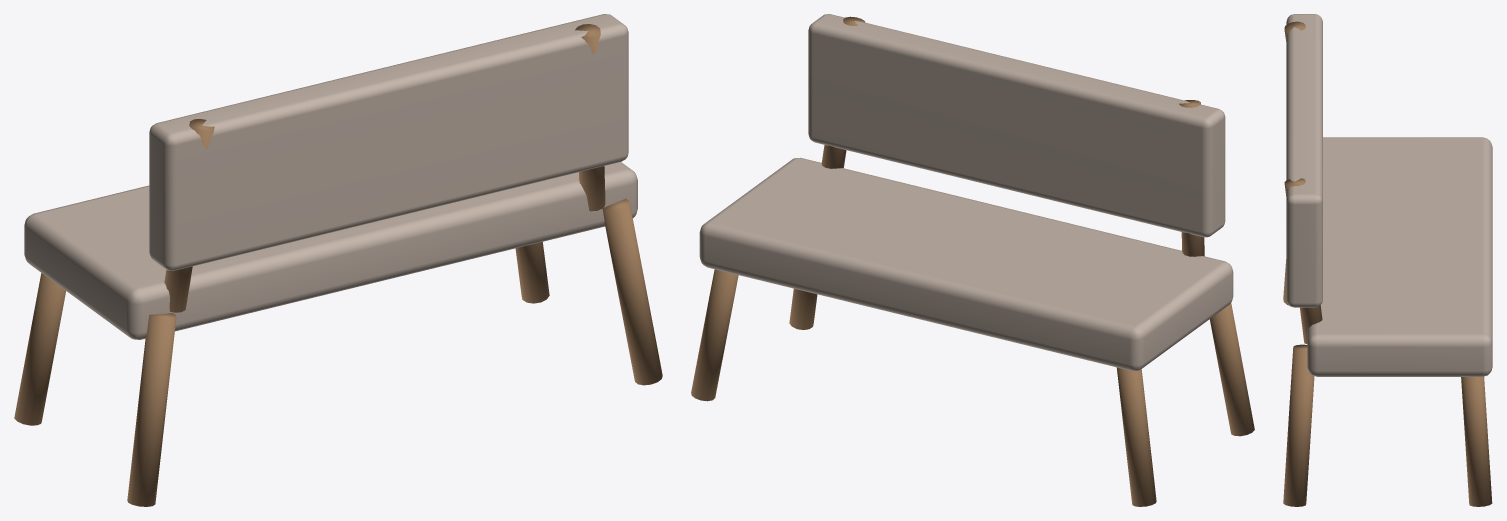
The model's file is secret-aria-traco.glb.
3 renders of one model, left to right at view 1: azimuth 30°, elevation 25°; view 2: azimuth 150°, elevation 25°; view 3: azimuth 270°, elevation 25°, orthographic. The views are drawn at different scales.
Visible parts, largest first — view 1: Encosto, Assento moldado, Pé de madeira, Pé de madeira.002, Pé de madeira.001, Pé de madeira.003, Montante do encosto, Montante do encosto.001; view 2: Assento moldado, Encosto, Pé de madeira.001, Pé de madeira.003, Pé de madeira, Pé de madeira.002, Montante do encosto.001, Montante do encosto; view 3: Assento moldado, Encosto, Pé de madeira.002, Pé de madeira.003, Montante do encosto.001.
Part boxes in pixels (x1,y1,x2,y2): Encosto: (149, 14, 628, 270); Assento moldado: (24, 162, 637, 339); Pé de madeira: (127, 313, 176, 506); Pé de madeira.002: (602, 198, 662, 385); Pé de madeira.001: (14, 273, 65, 425); Pé de madeira.003: (515, 242, 549, 303); Montante do encosto: (164, 119, 214, 312); Montante do encosto.001: (575, 24, 605, 211); Assento moldado: (699, 157, 1233, 371); Encosto: (808, 14, 1225, 237); Pé de madeira.001: (1116, 367, 1156, 506); Pé de madeira.003: (691, 269, 738, 401); Pé de madeira: (1209, 303, 1254, 436); Pé de madeira.002: (789, 288, 817, 329); Montante do encosto.001: (821, 16, 865, 168); Montante do encosto: (1179, 100, 1204, 256); Assento moldado: (1307, 137, 1492, 376); Encosto: (1286, 14, 1322, 307); Pé de madeira.002: (1283, 344, 1314, 506); Pé de madeira.003: (1461, 376, 1492, 506); Montante do encosto.001: (1284, 178, 1322, 343).
Size of the model in its own units: 1.03 by 0.6798 by 0.429.
